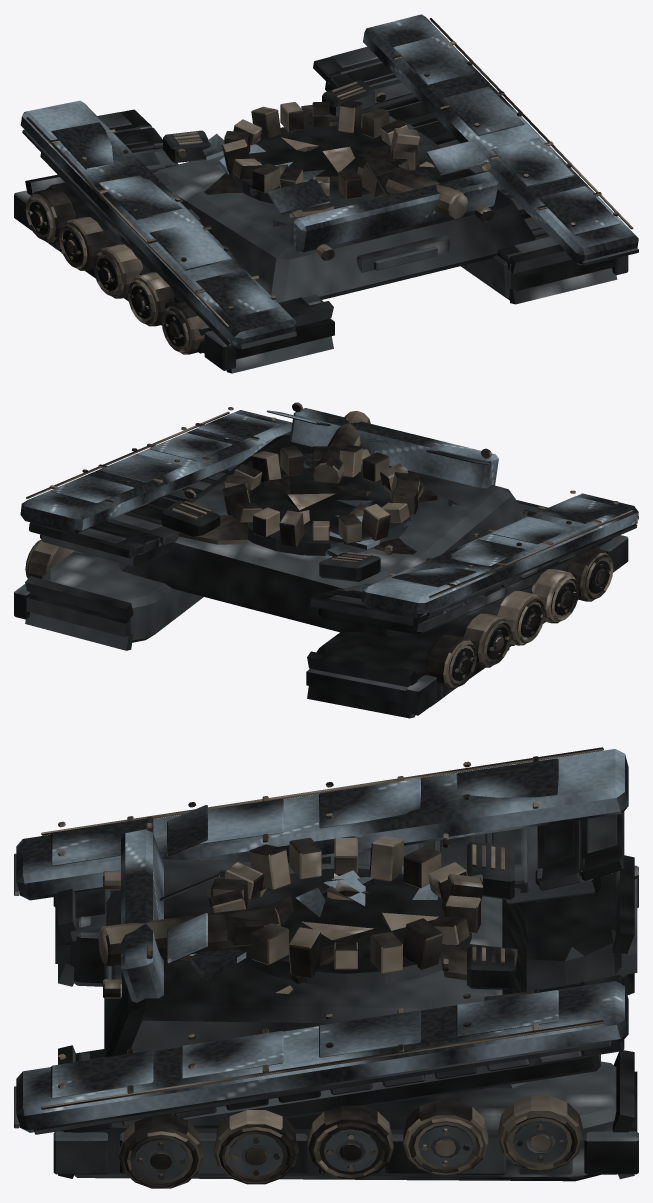
Rendered from tank-3.glb.
The picture shows the model from 3 angles, top to bottom: view 1: azimuth 30°, elevation 25°; view 2: azimuth 150°, elevation 25°; view 3: azimuth 270°, elevation 25°; orthographic projection. The views are drawn at different scales.
Parts seen in each view (by area): view 1: wreck.tank.structure, wreck.tank.team, wreck.tank.neutral; view 2: wreck.tank.structure, wreck.tank.team, wreck.tank.neutral; view 3: wreck.tank.structure, wreck.tank.team, wreck.tank.neutral.
Boxes of the visible parts, <box> form: wreck.tank.structure: <box>14,46,638,373</box>; wreck.tank.team: <box>20,14,638,348</box>; wreck.tank.neutral: <box>25,18,633,354</box>; wreck.tank.structure: <box>14,434,638,718</box>; wreck.tank.team: <box>20,408,638,617</box>; wreck.tank.neutral: <box>25,402,633,688</box>; wreck.tank.structure: <box>14,811,638,1181</box>; wreck.tank.team: <box>16,749,628,1132</box>; wreck.tank.neutral: <box>41,747,603,1188</box>.
Bounding box in the file's own units: 2.92 × 0.8821 × 2.64.
Materials: 3 (3 with a texture image).
